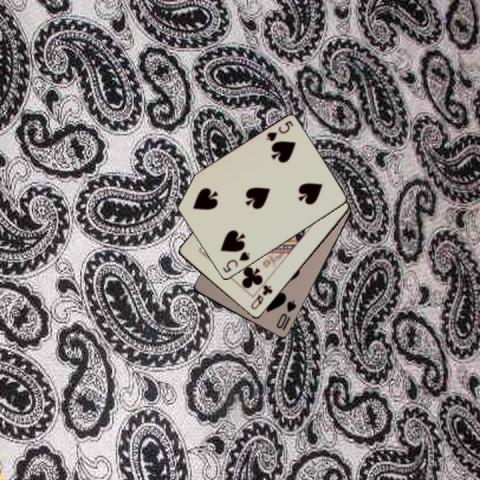10s: (273, 298, 298, 331)
5s: (220, 249, 252, 274), (263, 118, 295, 143)
Qc: (247, 282, 274, 311)
